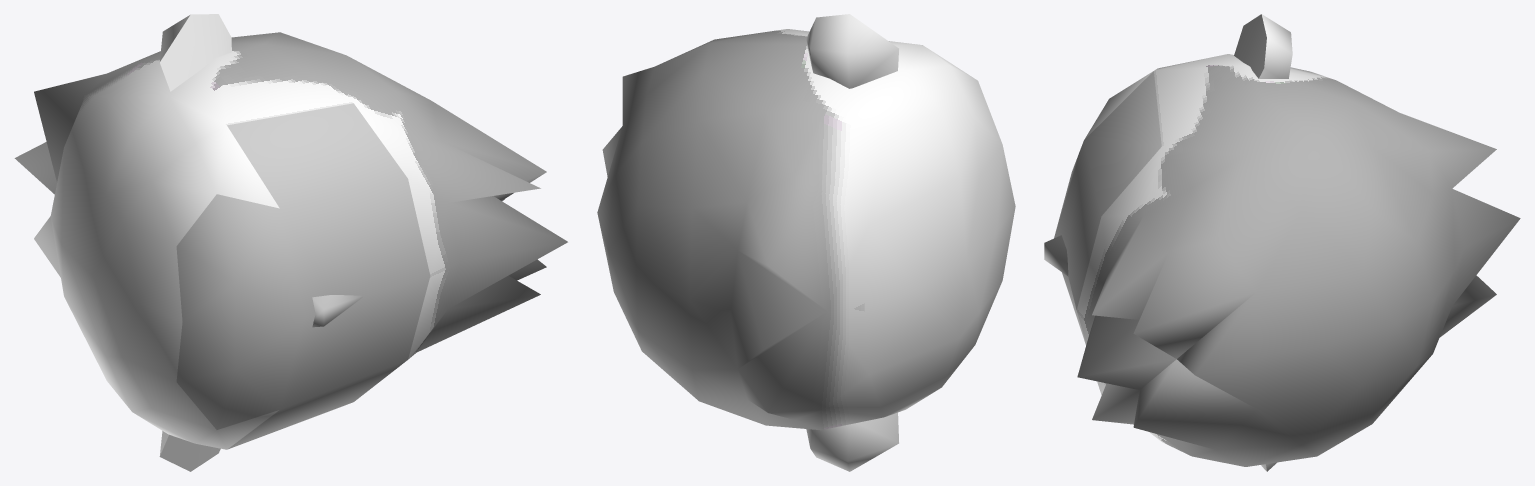
The model's file is boy05a.dae.
The picture shows the model from 3 angles, left to right: view 1: azimuth 30°, elevation 25°; view 2: azimuth 150°, elevation 25°; view 3: azimuth 270°, elevation 25°; orthographic projection.
Parts seen in each view (by area): view 1: vsn_mesh_1_, vsn_mesh_0_, vsn_mesh_2_; view 2: vsn_mesh_1_; view 3: vsn_mesh_1_, vsn_mesh_0_.
Boxes of the visible parts, x1,y1,x2,y2 form: vsn_mesh_1_: (14, 14, 567, 471); vsn_mesh_0_: (227, 103, 430, 449); vsn_mesh_2_: (176, 194, 304, 429); vsn_mesh_1_: (597, 14, 1015, 471); vsn_mesh_1_: (1076, 14, 1520, 471); vsn_mesh_0_: (1044, 71, 1161, 388).
Size of the model in its own units: 24.39 by 26.71 by 25.52.
3 materials, 1 textured.
